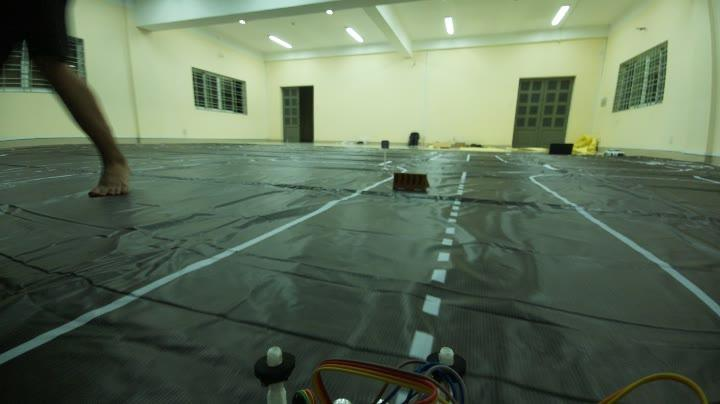roadblock: (386, 167, 435, 195)
